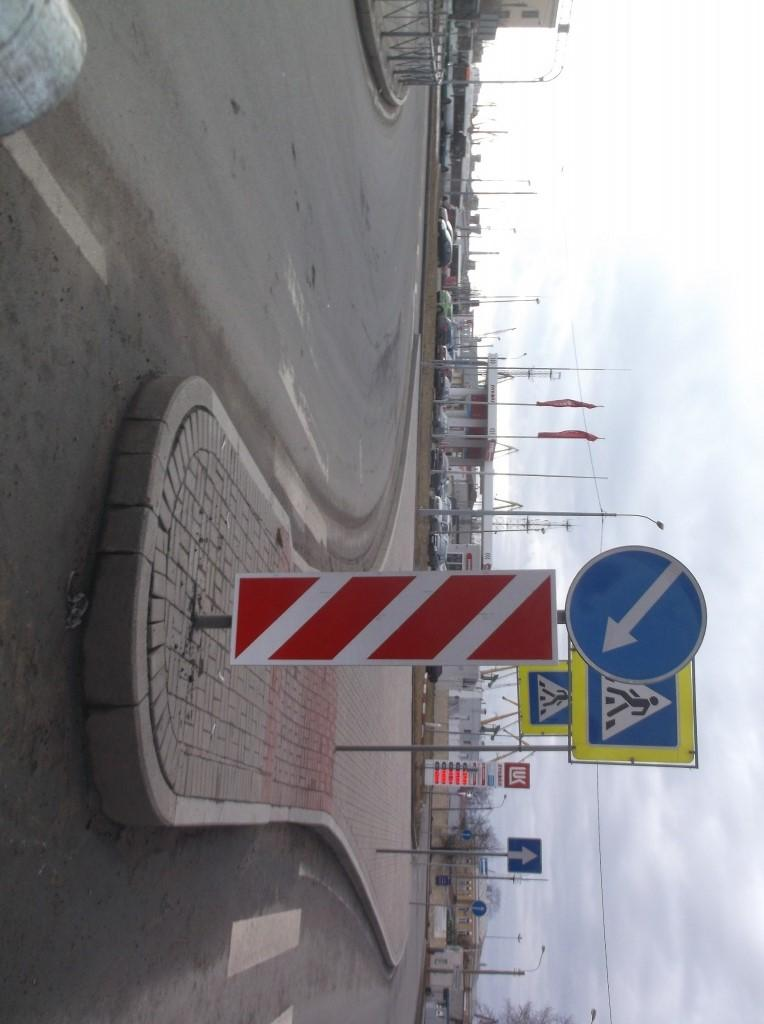obstructed_road_sign: (570, 649, 695, 765), (517, 661, 572, 737)
road_sign: (229, 567, 558, 667), (564, 545, 709, 682), (507, 837, 543, 874)
